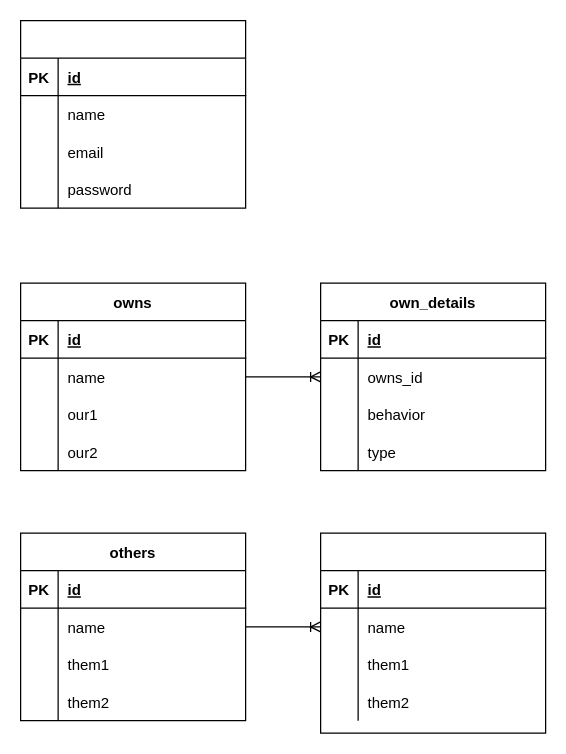
This 566x754 diagram has some shape labels left out. The shapes that lost their labels are listed below. From the top down, each one's box as (x1, y1, x2, y2) in pixels, then its label:
(19, 19, 246, 208): users
(319, 532, 546, 733): other_details
